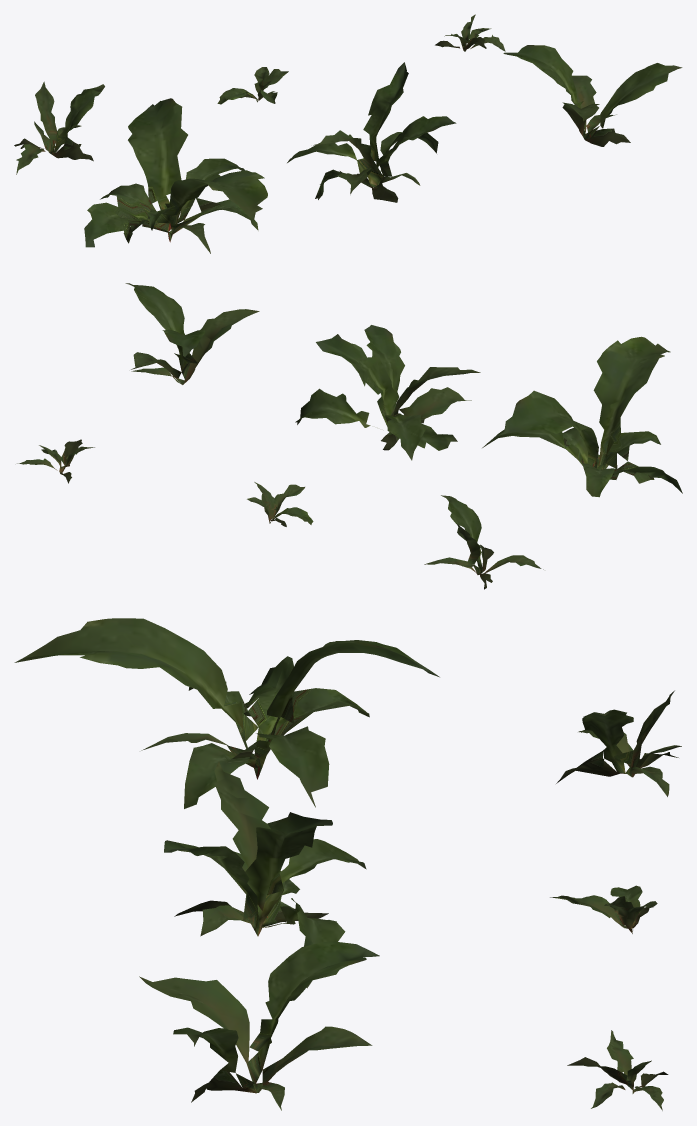
File: anthurium_botany_01_lod2.glb
3 renders of one model, top to bottom at view 1: azimuth 30°, elevation 25°; view 2: azimuth 150°, elevation 25°; view 3: azimuth 270°, elevation 25°, orthographic. The views are drawn at different scales.
Parts seen in each view (by area): view 1: anthurium_botany_01_a, anthurium_botany_01_b, anthurium_botany_01_c, anthurium_botany_04_d, anthurium_botany_05_e, anthurium_botany_06_f; view 2: anthurium_botany_01_a, anthurium_botany_01_b, anthurium_botany_01_c, anthurium_botany_04_d, anthurium_botany_05_e, anthurium_botany_06_f; view 3: anthurium_botany_01_a, anthurium_botany_01_b, anthurium_botany_01_c, anthurium_botany_04_d, anthurium_botany_06_f, anthurium_botany_05_e.
Boxes of the visible parts, box(x1,y1,x2,y2) form: anthurium_botany_01_a: box(84, 98, 267, 253); anthurium_botany_01_b: box(287, 62, 456, 202); anthurium_botany_01_c: box(503, 45, 682, 146); anthurium_botany_04_d: box(14, 81, 104, 174); anthurium_botany_05_e: box(217, 67, 288, 104); anthurium_botany_06_f: box(435, 14, 505, 51); anthurium_botany_01_a: box(482, 336, 682, 497); anthurium_botany_01_b: box(295, 325, 480, 460); anthurium_botany_01_c: box(125, 283, 259, 384); anthurium_botany_04_d: box(424, 495, 543, 589); anthurium_botany_05_e: box(247, 482, 313, 526); anthurium_botany_06_f: box(17, 439, 94, 483); anthurium_botany_01_a: box(14, 618, 439, 808); anthurium_botany_01_b: box(164, 762, 366, 988); anthurium_botany_01_c: box(139, 941, 379, 1110); anthurium_botany_04_d: box(556, 690, 681, 796); anthurium_botany_06_f: box(567, 1030, 668, 1110); anthurium_botany_05_e: box(550, 885, 657, 933).
Bounding box in the file's own units: 2.78 × 0.4963 × 1.79.
Materials: 1 (1 with a texture image).
